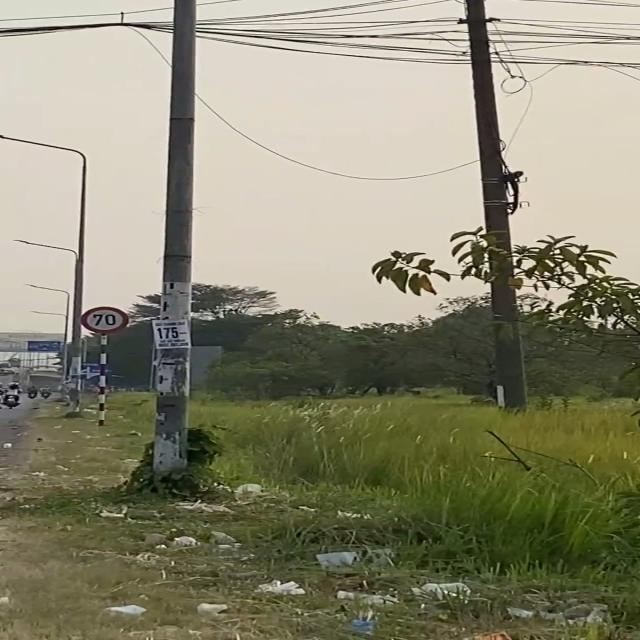127-toc-do-toi-da-70: (78, 306, 130, 334)
